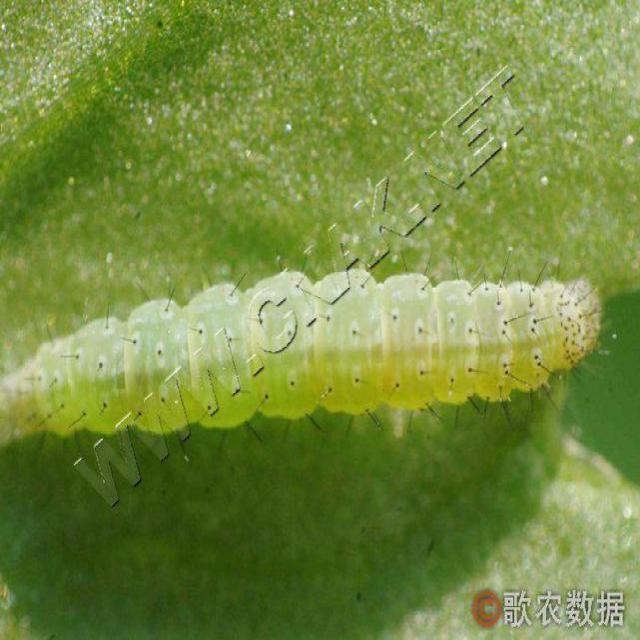armyworm: (7, 277, 613, 420)
